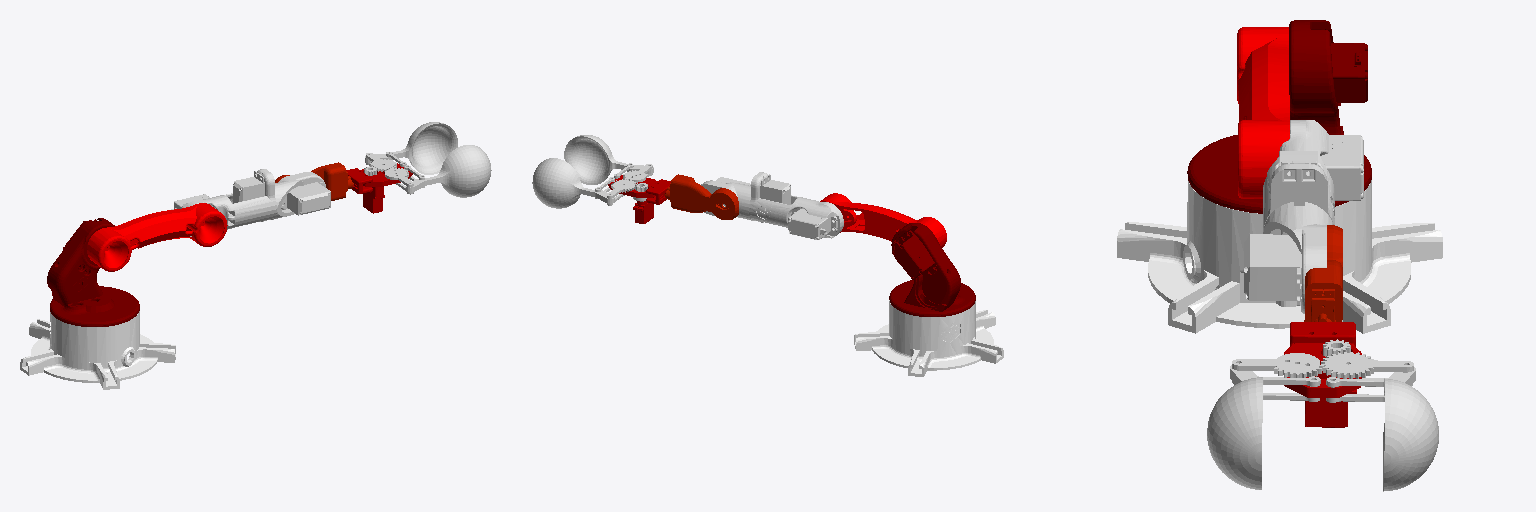
The robot description file, URDF, robot "Robot6RNewGripper.SLDASM":
<?xml version="1.0" encoding="utf-8"?>
<!-- This URDF was automatically created by SolidWorks to URDF Exporter! Originally created by Stephen Brawner (brawner@gmail.com) 
     Commit Version: 1.6.0-4-g7f85cfe  Build Version: 1.6.7995.38578
     For more information, please see http://wiki.ros.org/sw_urdf_exporter -->
<robot
  name="Robot6RNewGripper.SLDASM">
  <link
    name="base_link">
    <inertial>
      <origin
        xyz="-0.00397589726992113 0.0253359373971928 0.0004842305570016"
        rpy="0 0 0" />
      <mass
        value="0.180579228170309" />
      <inertia
        ixx="0.000201357964738336"
        ixy="1.01286764404721E-07"
        ixz="1.77479490061097E-06"
        iyy="0.000348276426616694"
        iyz="-7.36970214365602E-07"
        izz="0.000218379392821438" />
    </inertial>
    <visual>
      <origin
        xyz="0 0 0"
        rpy="0 0 0" />
      <geometry>
        <mesh
          filename="package://Robot6RNewGripper.SLDASM/meshes/base_link.STL" />
      </geometry>
      <material
        name="">
        <color
          rgba="1 1 1 1" />
      </material>
    </visual>
    <collision>
      <origin
        xyz="0 0 0"
        rpy="0 0 0" />
      <geometry>
        <mesh
          filename="package://Robot6RNewGripper.SLDASM/meshes/base_link.STL" />
      </geometry>
    </collision>
  </link>
  <link
    name="link_1">
    <inertial>
      <origin
        xyz="-0.00157996491621444 0.0492943118089879 0.015882814985049"
        rpy="0 0 0" />
      <mass
        value="0.159260462952147" />
      <inertia
        ixx="0.000109599395755527"
        ixy="1.05070387085057E-05"
        ixz="-4.77238356576036E-07"
        iyy="8.41892251817613E-05"
        iyz="-1.37570032679801E-05"
        izz="0.000130647353461313" />
    </inertial>
    <visual>
      <origin
        xyz="0 0 0"
        rpy="0 0 0" />
      <geometry>
        <mesh
          filename="package://Robot6RNewGripper.SLDASM/meshes/link_1.STL" />
      </geometry>
      <material
        name="">
        <color
          rgba="0.501960784313725 0 0 1" />
      </material>
    </visual>
    <collision>
      <origin
        xyz="0 0 0"
        rpy="0 0 0" />
      <geometry>
        <mesh
          filename="package://Robot6RNewGripper.SLDASM/meshes/link_1.STL" />
      </geometry>
    </collision>
  </link>
  <joint
    name="joint_1"
    type="revolute">
    <origin
      xyz="-0.00025 0 0.049325"
      rpy="1.5708 0 3.143376253589793" />
    <parent
      link="base_link" />
    <child
      link="link_1" />
    <axis
      xyz="0 1 0" />
    <limit
      lower="-1.5708"
      upper="1.5708"
      effort="0"
      velocity="0" />
  </joint>
  <link
    name="link_2">
    <inertial>
      <origin
        xyz="0.060024491203395 -0.00190454845477164 -0.00674407575245795"
        rpy="0 0 0" />
      <mass
        value="0.0811943209013823" />
      <inertia
        ixx="1.57792295116773E-05"
        ixy="-1.57078137473849E-06"
        ixz="-3.85989566237916E-07"
        iyy="0.00024016142443506"
        iyz="2.55259962889438E-07"
        izz="0.000246659685894686" />
    </inertial>
    <visual>
      <origin
        xyz="0 0 0"
        rpy="0 0 0" />
      <geometry>
        <mesh
          filename="package://Robot6RNewGripper.SLDASM/meshes/link_2.STL" />
      </geometry>
      <material
        name="">
        <color
          rgba="1 0 0 1" />
      </material>
    </visual>
    <collision>
      <origin
        xyz="0 0 0"
        rpy="0 0 0" />
      <geometry>
        <mesh
          filename="package://Robot6RNewGripper.SLDASM/meshes/link_2.STL" />
      </geometry>
    </collision>
  </link>
  <joint
    name="joint_2"
    type="revolute">
    <origin
      xyz="-0.013743 0.077525 0"
      rpy="0.0039208 0.0036887 3.1227" />
    <parent
      link="link_1" />
    <child
      link="link_2" />
    <axis
      xyz="0.0031827 -0.0039303 -0.99999" />
    <limit
      lower="-1.5708"
      upper="1.5708"
      effort="0"
      velocity="0" />
  </joint>
  <link
    name="link_3">
    <inertial>
      <origin
        xyz="0.00302264836959823 -0.017062927141259 0.0323223639997554"
        rpy="0 0 0" />
      <mass
        value="0.132096709631922" />
      <inertia
        ixx="5.75799274636387E-05"
        ixy="3.44778712801637E-07"
        ixz="-2.74799273546005E-06"
        iyy="6.3295095813814E-05"
        iyz="-1.7089021543278E-06"
        izz="1.9187183242968E-05" />
    </inertial>
    <visual>
      <origin
        xyz="0 0 0"
        rpy="0 0 0" />
      <geometry>
        <mesh
          filename="package://Robot6RNewGripper.SLDASM/meshes/link_3.STL" />
      </geometry>
      <material
        name="">
        <color
          rgba="0.894117647058823 0.894117647058823 0.894117647058823 1" />
      </material>
    </visual>
    <collision>
      <origin
        xyz="0 0 0"
        rpy="0 0 0" />
      <geometry>
        <mesh
          filename="package://Robot6RNewGripper.SLDASM/meshes/link_3.STL" />
      </geometry>
    </collision>
  </link>
  <joint
    name="joint_3"
    type="revolute">
    <origin
      xyz="0.12 0.00069892 0.00037918"
      rpy="-1.5677 -0.0040219 -1.5415" />
    <parent
      link="link_2" />
    <child
      link="link_3" />
    <axis
      xyz="0 1 0" />
    <limit
      lower="-1.5708"
      upper="1.5708"
      effort="0"
      velocity="0" />
  </joint>
  <link
    name="link_4">
    <inertial>
      <origin
        xyz="0.0372761774345642 -0.002105480669591 2.57331851629128E-05"
        rpy="0 0 0" />
      <mass
        value="0.0585981825562855" />
      <inertia
        ixx="9.78085509640355E-06"
        ixy="-9.91177157490086E-07"
        ixz="2.25067144479807E-08"
        iyy="2.22022578397587E-05"
        iyz="4.99152002180018E-08"
        izz="2.2117251658919E-05" />
    </inertial>
    <visual>
      <origin
        xyz="0 0 0"
        rpy="0 0 0" />
      <geometry>
        <mesh
          filename="package://Robot6RNewGripper.SLDASM/meshes/link_4.STL" />
      </geometry>
      <material
        name="">
        <color
          rgba="0.894117647058823 0.894117647058823 0.894117647058823 1" />
      </material>
    </visual>
    <collision>
      <origin
        xyz="0 0 0"
        rpy="0 0 0" />
      <geometry>
        <mesh
          filename="package://Robot6RNewGripper.SLDASM/meshes/link_4.STL" />
      </geometry>
    </collision>
  </link>
  <joint
    name="joint_4"
    type="revolute">
    <origin
      xyz="-0.00055712 -0.0099992 0.089088"
      rpy="-3.1416 -1.5693 -0.014771" />
    <parent
      link="link_3" />
    <child
      link="link_4" />
    <axis
      xyz="1 0 -0.0015235" />
    <limit
      lower="-1.5708"
      upper="1.5708"
      effort="0"
      velocity="0" />
  </joint>
  <link
    name="link_5">
    <inertial>
      <origin
        xyz="-0.038326654915607 0.000290031204053798 -0.0127064294424478"
        rpy="0 0 0" />
      <mass
        value="0.0323500820327528" />
      <inertia
        ixx="3.93222184241682E-06"
        ixy="-2.68928876127736E-08"
        ixz="1.31508319099715E-06"
        iyy="1.64132958708161E-05"
        iyz="2.09400022190366E-08"
        izz="1.88051973482682E-05" />
    </inertial>
    <visual>
      <origin
        xyz="0 0 0"
        rpy="0 0 0" />
      <geometry>
        <mesh
          filename="package://Robot6RNewGripper.SLDASM/meshes/link_5.STL" />
      </geometry>
      <material
        name="">
        <color
          rgba="0.752941176470588 0.125490196078431 0 1" />
      </material>
    </visual>
    <collision>
      <origin
        xyz="0 0 0"
        rpy="0 0 0" />
      <geometry>
        <mesh
          filename="package://Robot6RNewGripper.SLDASM/meshes/link_5.STL" />
      </geometry>
    </collision>
  </link>
  <joint
    name="jont_5"
    type="revolute">
    <origin
      xyz="0.032912 0.0027259 -5.0141E-05"
      rpy="-1.5708 -0.0023374 -3.1416" />
    <parent
      link="link_4" />
    <child
      link="link_5" />
    <axis
      xyz="0 0 1" />
    <limit
      lower="-1.5708"
      upper="1.5708"
      effort="0"
      velocity="0" />
  </joint>
  <link
    name="link_6">
    <inertial>
      <origin
        xyz="7.79167123408468E-05 -0.00827737273056518 -0.0291063392090334"
        rpy="0 0 0" />
      <mass
        value="0.0245407500172098" />
      <inertia
        ixx="4.18313065017093E-06"
        ixy="1.53862808024426E-07"
        ixz="-2.64500597752713E-07"
        iyy="5.7519741292833E-06"
        iyz="1.71607377250083E-07"
        izz="3.20350032548309E-06" />
    </inertial>
    <visual>
      <origin
        xyz="0 0 0"
        rpy="0 0 0" />
      <geometry>
        <mesh
          filename="package://Robot6RNewGripper.SLDASM/meshes/link_6.STL" />
      </geometry>
      <material
        name="">
        <color
          rgba="0.752941176470588 0 0 1" />
      </material>
    </visual>
    <collision>
      <origin
        xyz="0 0 0"
        rpy="0 0 0" />
      <geometry>
        <mesh
          filename="package://Robot6RNewGripper.SLDASM/meshes/link_6.STL" />
      </geometry>
    </collision>
  </link>
  <joint
    name="joint_6"
    type="revolute">
    <origin
      xyz="-0.078176 0.005665 -0.0097241"
      rpy="1.5708 -1.5688 1.5708" />
    <parent
      link="link_5" />
    <child
      link="link_6" />
    <axis
      xyz="0 0 1" />
    <limit
      lower="-1.5708"
      upper="1.5708"
      effort="0"
      velocity="0" />
  </joint>
  <link
    name="link_gripper_gear_left">
    <inertial>
      <origin
        xyz="0.00694485723971766 -2.82017464936501E-13 -0.00330245335384548"
        rpy="0 0 0" />
      <mass
        value="0.0025438229007213" />
      <inertia
        ixx="8.09520017140407E-08"
        ixy="6.47222300413288E-20"
        ixz="1.45260670382554E-22"
        iyy="3.55386647848964E-07"
        iyz="-8.27180612553028E-25"
        izz="4.32525242197761E-07" />
    </inertial>
    <visual>
      <origin
        xyz="0 0 0"
        rpy="0 0 0" />
      <geometry>
        <mesh
          filename="package://Robot6RNewGripper.SLDASM/meshes/link_gripper_gear_left.STL" />
      </geometry>
      <material
        name="">
        <color
          rgba="0.894117647058823 0.894117647058823 0.894117647058823 1" />
      </material>
    </visual>
    <collision>
      <origin
        xyz="0 0 0"
        rpy="0 0 0" />
      <geometry>
        <mesh
          filename="package://Robot6RNewGripper.SLDASM/meshes/link_gripper_gear_left.STL" />
      </geometry>
    </collision>
  </link>
  <joint
    name="joint_gripper_gear_left"
    type="revolute">
    <origin
      xyz="-0.0135 0 -0.048769"
      rpy="-1.57079635764 0.00839632679484 3.14158898026" />
    <parent
      link="link_6" />
    <child
      link="link_gripper_gear_left" />
    <axis
      xyz="-0 -0 -1" />
    <limit
      lower="-0.7854"
      upper="0.7854"
      effort="0"
      velocity="0" />
    <mimic
      joint="joint_gear"
      multiplier="-1"
      offset="0" />
  </joint>
  <link
    name="link_gripper_claw_left">
    <inertial>
      <origin
        xyz="0.000931106007452713 -0.000249974923563226 -0.0685497668382268"
        rpy="0 0 0" />
      <mass
        value="0.024433556774469" />
      <inertia
        ixx="1.8285246118321E-05"
        ixy="-6.35113906953161E-13"
        ixz="7.30138534075997E-07"
        iyy="1.42390343502629E-05"
        iyz="4.83957970199787E-11"
        izz="6.68567353468659E-06" />
    </inertial>
    <visual>
      <origin
        xyz="0 0 0"
        rpy="0 0 0" />
      <geometry>
        <mesh
          filename="package://Robot6RNewGripper.SLDASM/meshes/link_gripper_claw_left.STL" />
      </geometry>
      <material
        name="">
        <color
          rgba="0.894117647058823 0.894117647058823 0.894117647058823 1" />
      </material>
    </visual>
    <collision>
      <origin
        xyz="0 0 0"
        rpy="0 0 0" />
      <geometry>
        <mesh
          filename="package://Robot6RNewGripper.SLDASM/meshes/link_gripper_claw_left.STL" />
      </geometry>
    </collision>
  </link>
  <joint
    name="join_gripper_claw_left"
    type="revolute">
    <origin
      xyz="0.031 0 0"
      rpy="1.57079632679 -3.67320510342e-06 -0.0148036732051" />
    <parent
      link="link_gripper_gear_left" />
    <child
      link="link_gripper_claw_left" />
    <axis
      xyz="-0 -1 -0" />
    <limit
      lower="-0.7854"
      upper="0.7854"
      effort="0"
      velocity="0" />
    <mimic
      joint="joint_gripper_gear_left"
      multiplier="-1"
      offset="0" />
  </joint>
  <link
    name="link_gripper_gear_right">
    <inertial>
      <origin
        xyz="0.00756726544751063 0.000496925344192205 0.00318758937094676"
        rpy="0 0 0" />
      <mass
        value="0.0023568082806621" />
      <inertia
        ixx="6.71790501251593E-08"
        ixy="6.92596192693431E-09"
        ixz="8.82627562988223E-23"
        iyy="3.33884733130792E-07"
        iyz="-3.03575284806961E-22"
        izz="3.97530897820802E-07" />
    </inertial>
    <visual>
      <origin
        xyz="0 0 0"
        rpy="0 0 0" />
      <geometry>
        <mesh
          filename="package://Robot6RNewGripper.SLDASM/meshes/link_gripper_gear_right.STL" />
      </geometry>
      <material
        name="">
        <color
          rgba="0.894117647058823 0.894117647058823 0.894117647058823 1" />
      </material>
    </visual>
    <collision>
      <origin
        xyz="0 0 0"
        rpy="0 0 0" />
      <geometry>
        <mesh
          filename="package://Robot6RNewGripper.SLDASM/meshes/link_gripper_gear_right.STL" />
      </geometry>
    </collision>
  </link>
  <joint
    name="joint_gripper_gear_right"
    type="revolute">
    <origin
      xyz="0.0135 0 -0.048769"
      rpy="-1.57079635764 0.00839632679484 3.67307562232e-06" />
    <parent
      link="link_6" />
    <child
      link="link_gripper_gear_right" />
    <axis
      xyz="-0 -0 -1" />
    <limit
      lower="-0.7854"
      upper="0.7854"
      effort="0"
      velocity="0" />
    <mimic
      joint="joint_gripper_gear_left"
      multiplier="1"
      offset="0" />
  </joint>
  <link
    name="link_gripper_claw_right">
    <inertial>
      <origin
        xyz="0.00093110619143745 0.000250024844276234 -0.0685497670654375"
        rpy="0 0 0" />
      <mass
        value="0.0244335580521421" />
      <inertia
        ixx="1.82852461854643E-05"
        ixy="-8.70636705513923E-13"
        ixz="7.3013837836895E-07"
        iyy="1.4239034957681E-05"
        iyz="4.82788730402148E-11"
        izz="6.68567285724281E-06" />
    </inertial>
    <visual>
      <origin
        xyz="0 0 0"
        rpy="0 0 0" />
      <geometry>
        <mesh
          filename="package://Robot6RNewGripper.SLDASM/meshes/link_gripper_claw_right.STL" />
      </geometry>
      <material
        name="">
        <color
          rgba="0.894117647058823 0.894117647058823 0.894117647058823 1" />
      </material>
    </visual>
    <collision>
      <origin
        xyz="0 0 0"
        rpy="0 0 0" />
      <geometry>
        <mesh
          filename="package://Robot6RNewGripper.SLDASM/meshes/link_gripper_claw_right.STL" />
      </geometry>
    </collision>
  </link>
  <joint
    name="jont_gripper_claw_right"
    type="revolute">
    <origin
      xyz="0.031 0 0"
      rpy="1.57079632679 -3.67320510342e-06 -0.0148036732051" />
    <parent
      link="link_gripper_gear_right" />
    <child
      link="link_gripper_claw_right" />
    <axis
      xyz="-0 -1 -0" />
    <limit
      lower="-0.7854"
      upper="0.7854"
      effort="0"
      velocity="0" />
    <mimic
      joint="joint_gripper_gear_right"
      multiplier="-1"
      offset="0" />
  </joint>
  <link
    name="link_gripper_linkage_left">
    <inertial>
      <origin
        xyz="-0.0154999999997155 -1.55951640490315E-14 0.00024999999998393"
        rpy="0 0 0" />
      <mass
        value="0.000818289401846525" />
      <inertia
        ixx="2.32081962996144E-09"
        ixy="1.62041870877525E-20"
        ixz="6.78554674170575E-23"
        iyy="1.14658583618082E-07"
        iyz="6.20385459414771E-25"
        izz="1.1575662311695E-07" />
    </inertial>
    <visual>
      <origin
        xyz="0 0 0"
        rpy="0 0 0" />
      <geometry>
        <mesh
          filename="package://Robot6RNewGripper.SLDASM/meshes/link_gripper_linkage_left.STL" />
      </geometry>
      <material
        name="">
        <color
          rgba="0.894117647058823 0.894117647058823 0.894117647058823 1" />
      </material>
    </visual>
    <collision>
      <origin
        xyz="0 0 0"
        rpy="0 0 0" />
      <geometry>
        <mesh
          filename="package://Robot6RNewGripper.SLDASM/meshes/link_gripper_linkage_left.STL" />
      </geometry>
    </collision>
  </link>
  <joint
    name="joint_gripper_linkage_left"
    type="revolute">
    <origin
      xyz="-0.0052398 0 -0.069169"
      rpy="-1.5707963547 -0.00759632679485 -3.67309912086e-06" />
    <parent
      link="link_6" />
    <child
      link="link_gripper_linkage_left" />
    <axis
      xyz="-0 -0 -1" />
    <limit
      lower="-0.7854"
      upper="0.7854"
      effort="0"
      velocity="0" />
    <mimic
      joint="joint_gripper_gear_left"
      multiplier="-1"
      offset="0" />
  </joint>
  <link
    name="link_gripper_linkage_right">
    <inertial>
      <origin
        xyz="0.0155727094054443 0.000480510232834188 -0.000249999999983944"
        rpy="0 0 0" />
      <mass
        value="0.000818289401846525" />
      <inertia
        ixx="2.32081962996144E-09"
        ixy="-1.89575918503674E-20"
        ixz="4.06388069320718E-23"
        iyy="1.14658583618082E-07"
        iyz="-1.65436122510606E-24"
        izz="1.15756623116949E-07" />
    </inertial>
    <visual>
      <origin
        xyz="0 0 0"
        rpy="0 0 0" />
      <geometry>
        <mesh
          filename="package://Robot6RNewGripper.SLDASM/meshes/link_gripper_linkage_right.STL" />
      </geometry>
      <material
        name="">
        <color
          rgba="0.894117647058823 0.894117647058823 0.894117647058823 1" />
      </material>
    </visual>
    <collision>
      <origin
        xyz="0 0 0"
        rpy="0 0 0" />
      <geometry>
        <mesh
          filename="package://Robot6RNewGripper.SLDASM/meshes/link_gripper_linkage_right.STL" />
      </geometry>
    </collision>
  </link>
  <joint
    name="joint_gripper_linkage_right"
    type="revolute">
    <origin
      xyz="0.0047599 0 -0.069093"
      rpy="1.5707963547 0.00759632679485 1.10197212926e-05" />
    <parent
      link="link_6" />
    <child
      link="link_gripper_linkage_right" />
    <axis
      xyz="-0 -0 -1" />
    <limit
      lower="-0.7854"
      upper="0.7854"
      effort="0"
      velocity="0" />
    <mimic
      joint="joint_gripper_linkage_left"
      multiplier="1"
      offset="0" />
  </joint>
  <link
    name="link_gear">
    <inertial>
      <origin
        xyz="0.00416137430913258 -6.80102738015442E-10 -0.00042510653594513"
        rpy="0 0 0" />
      <mass
        value="0.00377771478509869" />
      <inertia
        ixx="1.31499959335531E-07"
        ixy="1.72134680716306E-14"
        ixz="-6.0765017587902E-09"
        iyy="1.17194337380913E-07"
        iyz="-8.62434274860932E-15"
        izz="1.11612196907485E-07" />
    </inertial>
    <visual>
      <origin
        xyz="0 0 0"
        rpy="0 0 0" />
      <geometry>
        <mesh
          filename="package://Robot6RNewGripper.SLDASM/meshes/link_gear.STL" />
      </geometry>
      <material
        name="">
        <color
          rgba="0.894117647058823 0.894117647058823 0.894117647058823 1" />
      </material>
    </visual>
    <collision>
      <origin
        xyz="0 0 0"
        rpy="0 0 0" />
      <geometry>
        <mesh
          filename="package://Robot6RNewGripper.SLDASM/meshes/link_gear.STL" />
      </geometry>
    </collision>
  </link>
  <joint
    name="joint_gear"
    type="revolute">
    <origin
      xyz="-0.0075033 0 -0.029061"
      rpy="1.34548632679 0 -1.5708" />
    <parent
      link="link_6" />
    <child
      link="link_gear" />
    <axis
      xyz="-1 -0 -0" />
    <limit
      lower="0"
      upper="1.5707963267948966"
      effort="0"
      velocity="0" />
  </joint>
</robot>

--- Render facts (derived) ---
3 views of the same robot in one strip: view 1: azimuth 30°, elevation 25°; view 2: azimuth 150°, elevation 25°; view 3: azimuth 270°, elevation 25° (orthographic).
Model Robot6RNewGripper.SLDASM with 14 links and 13 joints (13 revolute), rooted at base_link, posed all joints at 0.
Visible links, largest first — view 1: base_link, link_1, link_2, link_3, link_gripper_claw_right, link_gripper_claw_left, link_4, link_6, link_5; view 2: base_link, link_1, link_3, link_2, link_gripper_claw_left, link_5, link_gripper_claw_right, link_6, link_4; view 3: base_link, link_1, link_2, link_3, link_4, link_gripper_claw_left, link_gripper_claw_right, link_6, link_5, link_gripper_gear_left, link_gripper_gear_right, link_gripper_linkage_left (+1 smaller).
Link boxes in pixels (x1,y1,x2,y2): base_link: [20, 311, 175, 389]; link_1: [47, 218, 139, 326]; link_2: [87, 203, 227, 271]; link_3: [171, 169, 276, 236]; link_gripper_claw_right: [406, 145, 491, 197]; link_gripper_claw_left: [365, 122, 457, 174]; link_4: [271, 172, 330, 219]; link_6: [346, 163, 412, 213]; link_5: [275, 162, 353, 200]; base_link: [854, 300, 1003, 376]; link_1: [889, 223, 975, 316]; link_3: [749, 172, 843, 239]; link_2: [820, 193, 946, 247]; link_gripper_claw_left: [532, 158, 614, 208]; link_5: [664, 174, 738, 219]; link_gripper_claw_right: [564, 135, 653, 184]; link_6: [608, 175, 670, 223]; link_4: [701, 177, 753, 220]; base_link: [1117, 180, 1442, 333]; link_1: [1187, 20, 1371, 213]; link_2: [1237, 27, 1289, 198]; link_3: [1263, 120, 1363, 234]; link_4: [1244, 202, 1332, 313]; link_gripper_claw_left: [1383, 367, 1438, 491]; link_gripper_claw_right: [1207, 365, 1262, 489]; link_6: [1284, 322, 1361, 427]; link_5: [1304, 225, 1342, 321]; link_gripper_gear_left: [1321, 352, 1413, 385]; link_gripper_gear_right: [1232, 353, 1323, 384]; link_gripper_linkage_left: [1326, 377, 1396, 402].
Bounding box of the posed robot: 0.5751 × 0.1729 × 0.1651 m (x, y, z).
Meshes: 14 distinct files referenced, 14 mesh visuals loaded (14 binary STL).
